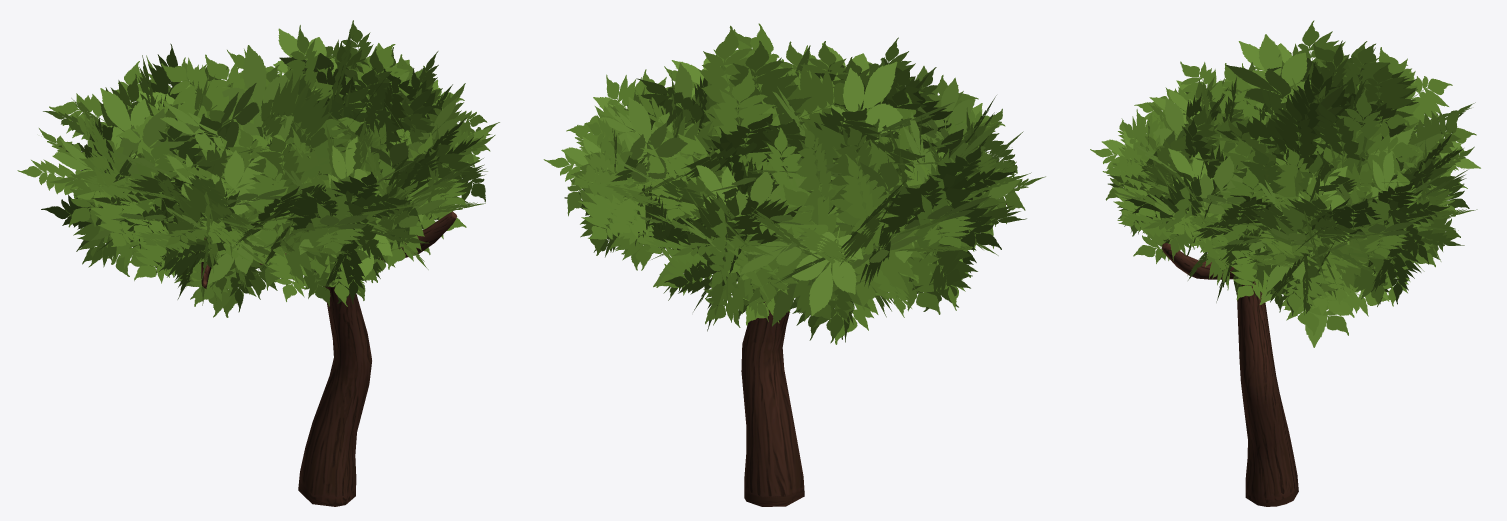
File: SM_Common_Tree_02.glb
3 views of the same model, side by side, from view 1: azimuth 30°, elevation 25°; view 2: azimuth 150°, elevation 25°; view 3: azimuth 270°, elevation 25° (orthographic). The views are drawn at different scales.
Parts seen in each view (by area): view 1: SM_Common_Tree_02; view 2: SM_Common_Tree_02; view 3: SM_Common_Tree_02.
Part boxes in pixels (bbox=[...]): SM_Common_Tree_02: bbox=[17, 20, 499, 506]; SM_Common_Tree_02: bbox=[543, 23, 1045, 506]; SM_Common_Tree_02: bbox=[1090, 20, 1480, 506].
Bounding box in the file's own units: 6.81 × 6.87 × 6.02.
2 materials, 2 textured.
